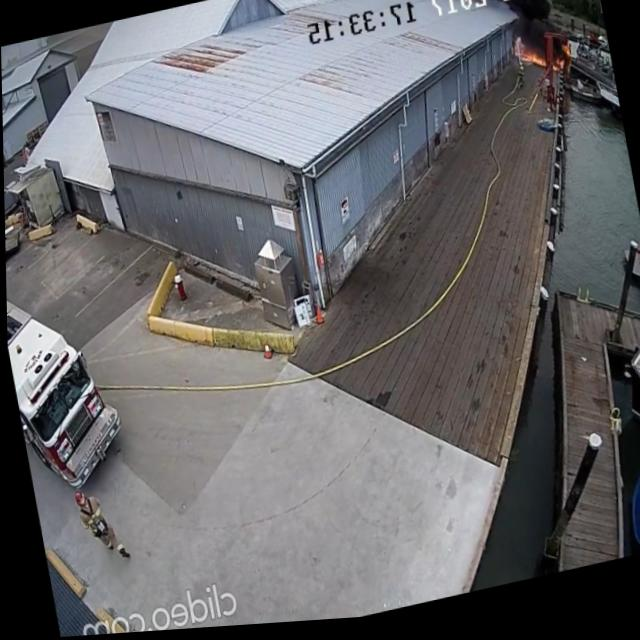fire: (516, 41, 549, 85), (548, 46, 579, 85), (404, 0, 462, 11)
